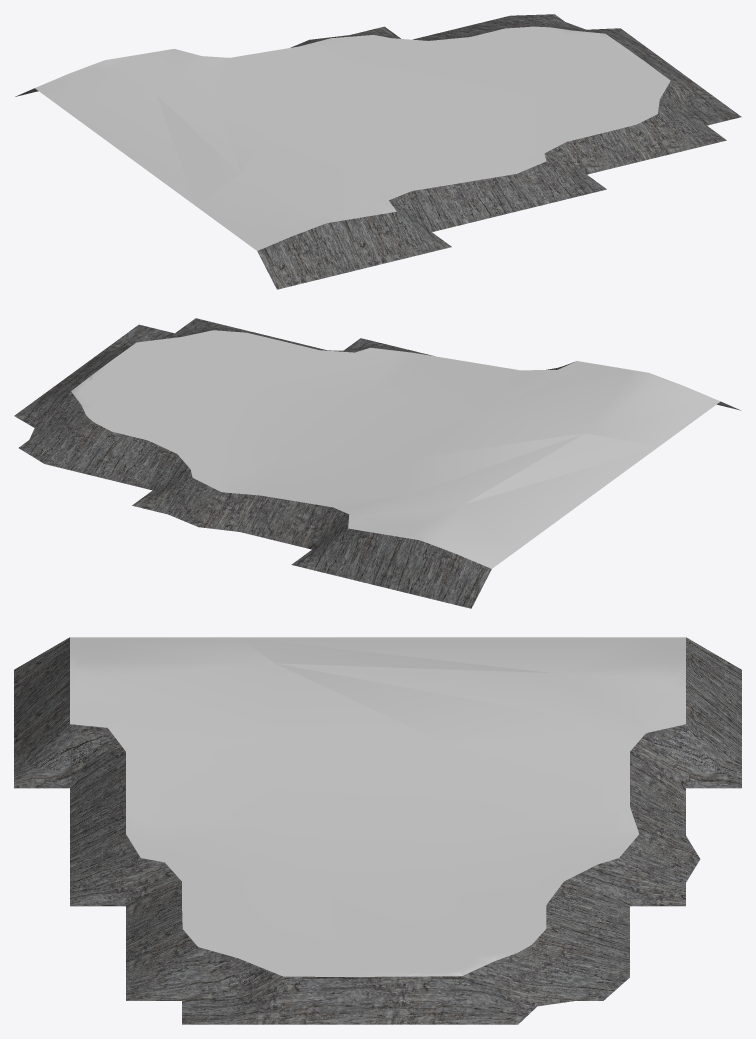
File: peninsula.DAE
3 renders of one model, top to bottom at view 1: azimuth 30°, elevation 25°; view 2: azimuth 150°, elevation 25°; view 3: azimuth 270°, elevation 25°, orthographic. The views are drawn at different scales.
Parts seen in each view (by area): view 1: peninsula; view 2: peninsula; view 3: peninsula.
Part boxes in pixels (x1=…): peninsula: x1=15, y1=14, x2=741, y2=289; peninsula: x1=14, y1=318, x2=740, y2=608; peninsula: x1=14, y1=637, x2=741, y2=1024.
Size of the model in its own units: 957 by 830 by 60.45.
